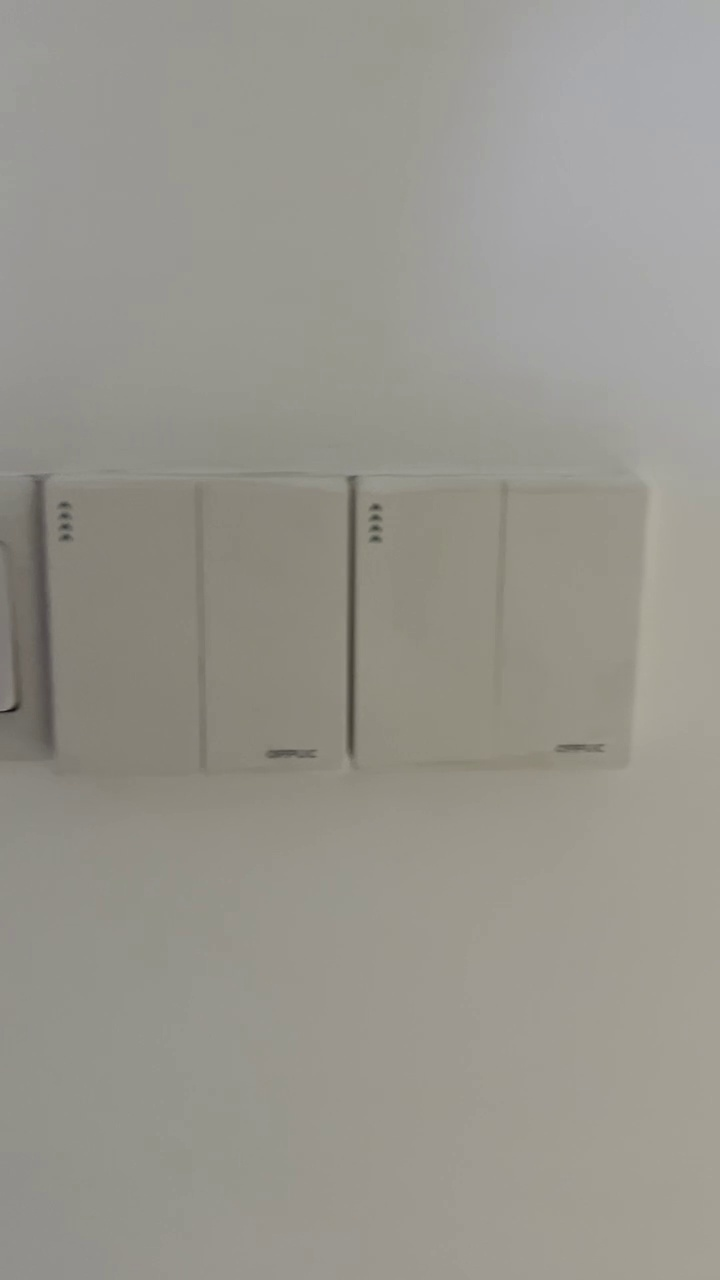button1: (47, 477, 200, 764), (206, 481, 348, 771), (356, 480, 496, 764), (502, 476, 638, 765)
